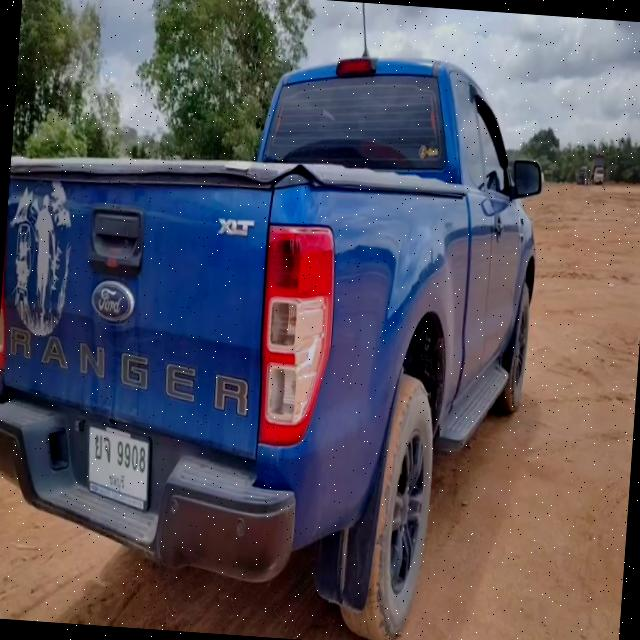Digit: (115, 436, 146, 472)
Licenseplate: (85, 418, 154, 512)
Provincename: (106, 470, 126, 494)
Thaichar: (92, 433, 112, 465)
